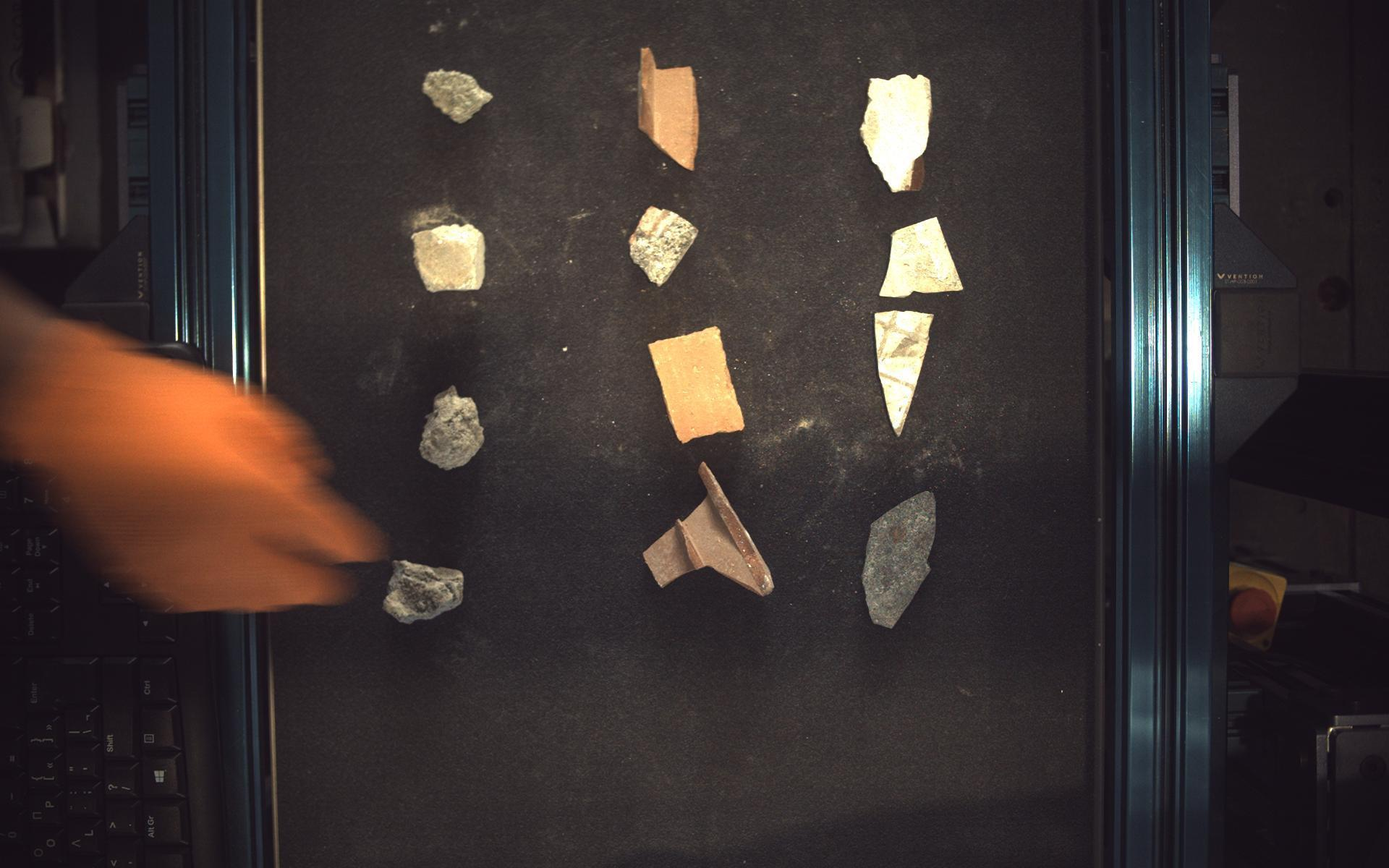brick: (645, 485, 775, 596), (650, 326, 746, 443), (640, 46, 700, 169), (629, 205, 700, 286)
concrete: (403, 203, 485, 292), (420, 386, 484, 470), (383, 561, 464, 624), (422, 69, 493, 122)
tile: (865, 492, 938, 629), (862, 73, 934, 192), (876, 310, 935, 435), (882, 217, 964, 297)
